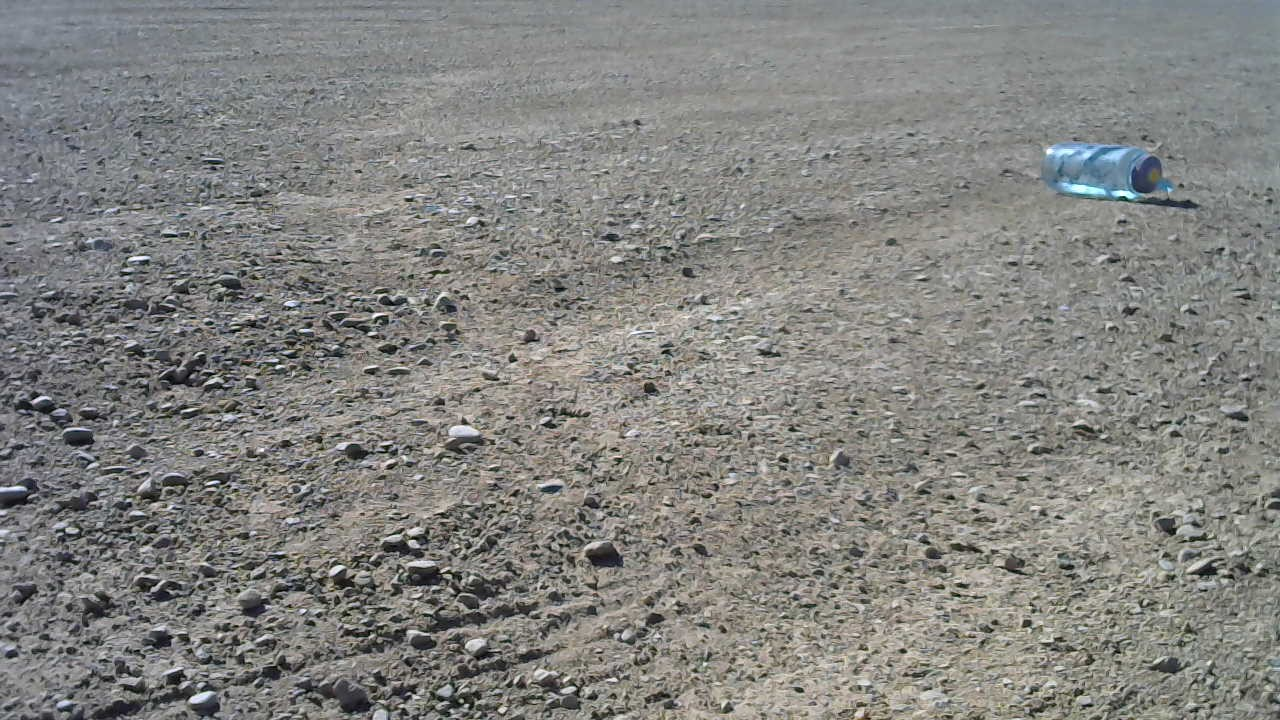bottle: (1035, 130, 1175, 203)
